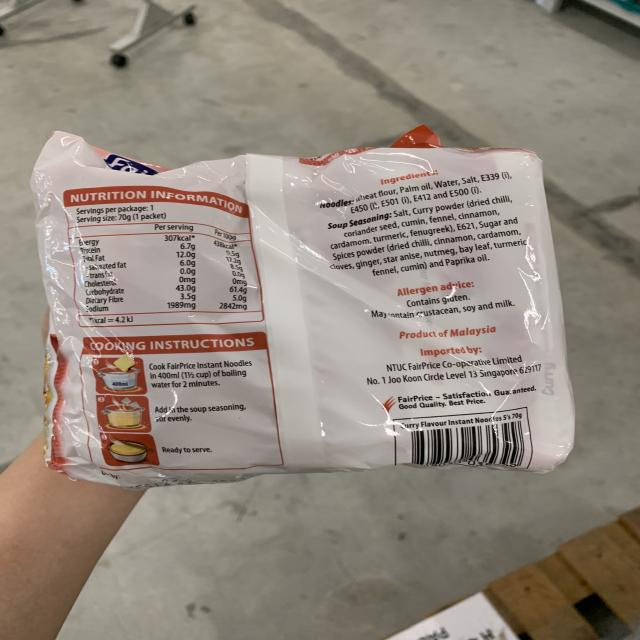object_name: (46, 151, 566, 474)
